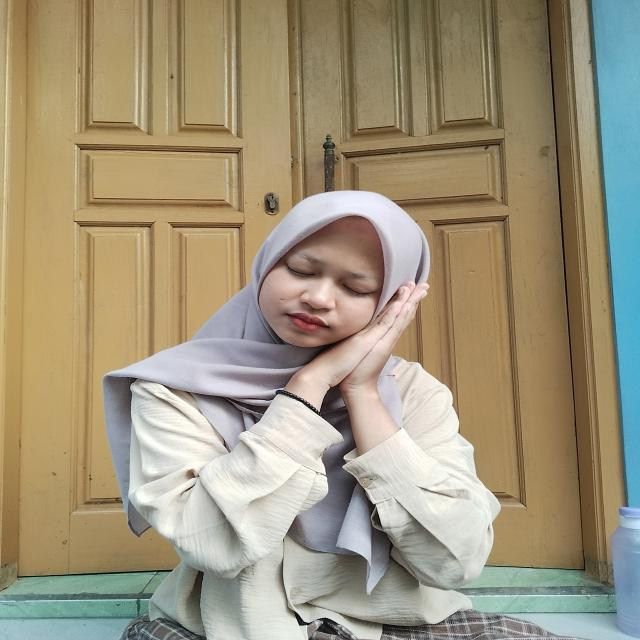tidur: (262, 275, 432, 472)
